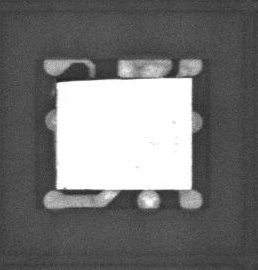DIE_INK: (172, 135, 181, 154), (148, 139, 159, 146), (171, 118, 177, 125)
